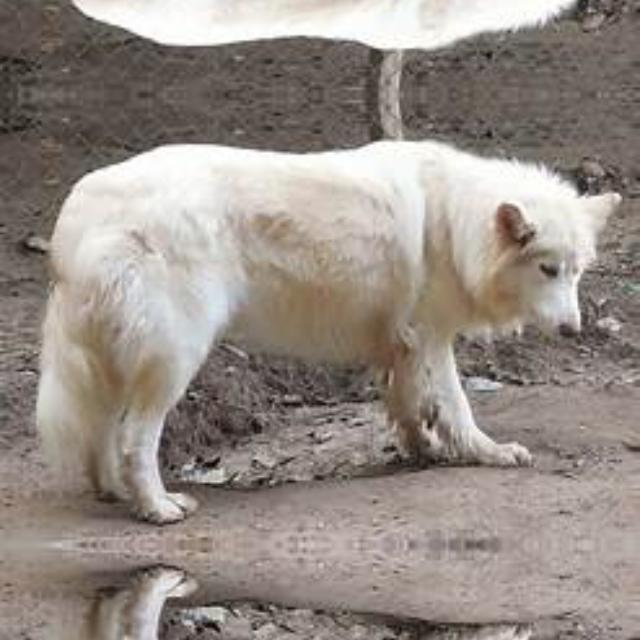dog: (32, 140, 640, 520), (32, 569, 640, 640), (32, 0, 640, 48)
